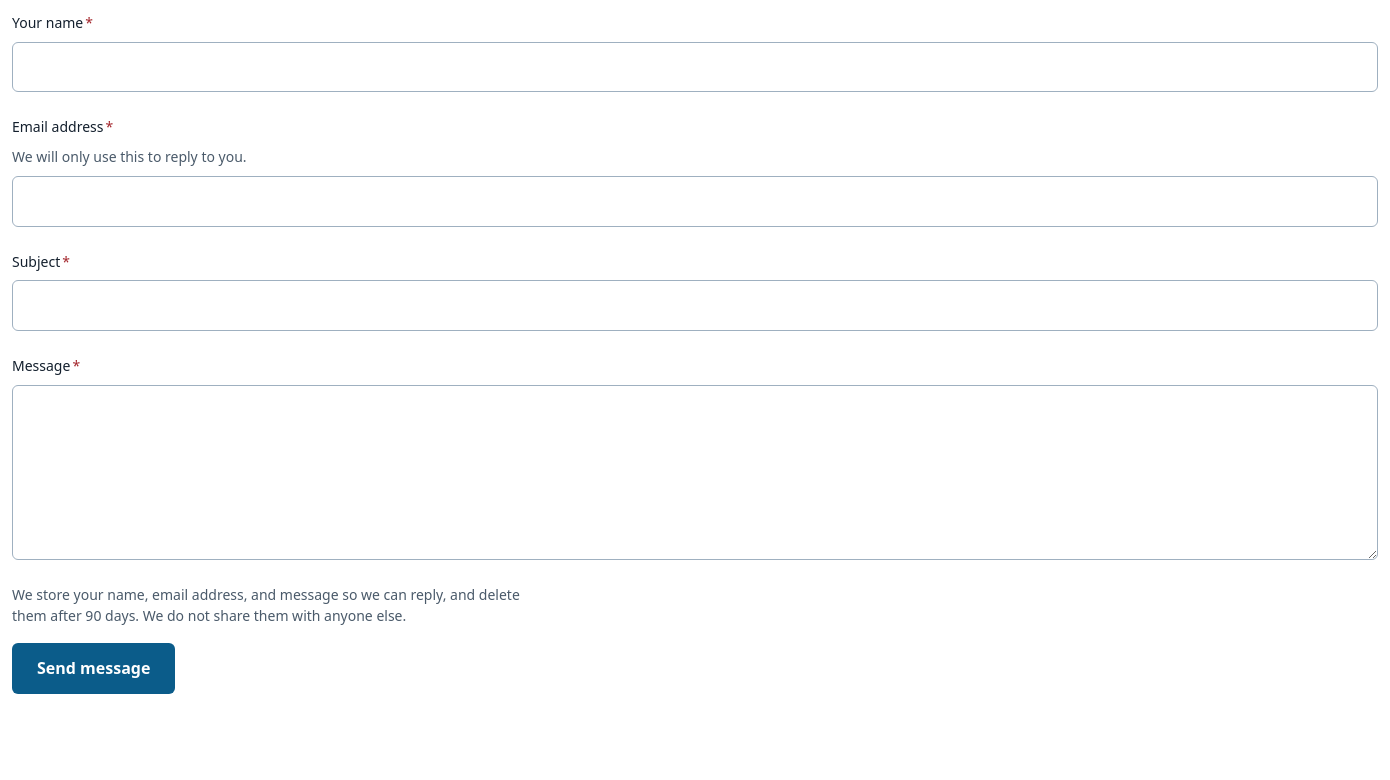
Scenario: success state › confirms explicitly rather than silently clearing
In the field labelled "Your name*": (695,67) x1=12 y1=42 x2=1378 y2=92, type "Amina Farouk"
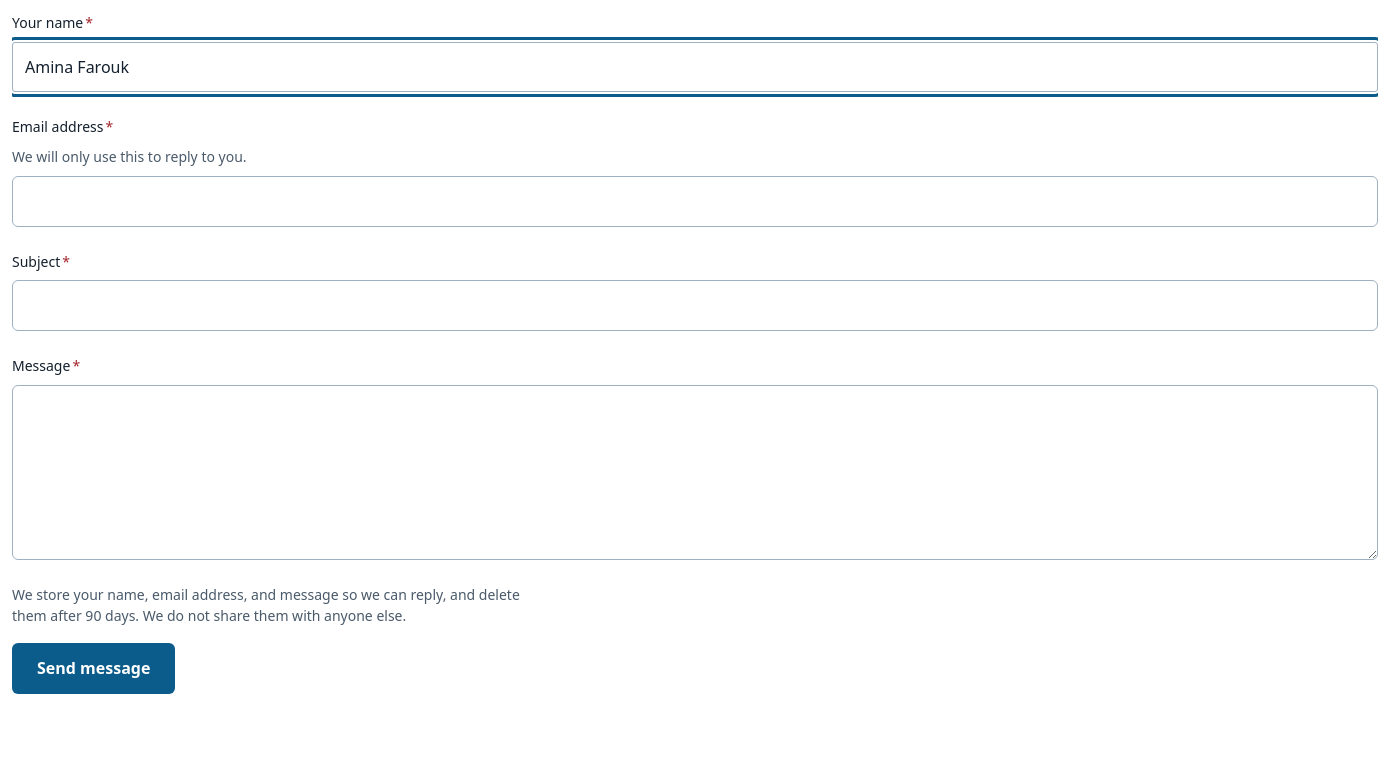
In the field labelled "Email address*": (695,201) x1=12 y1=176 x2=1378 y2=227, type "amina@example.com"
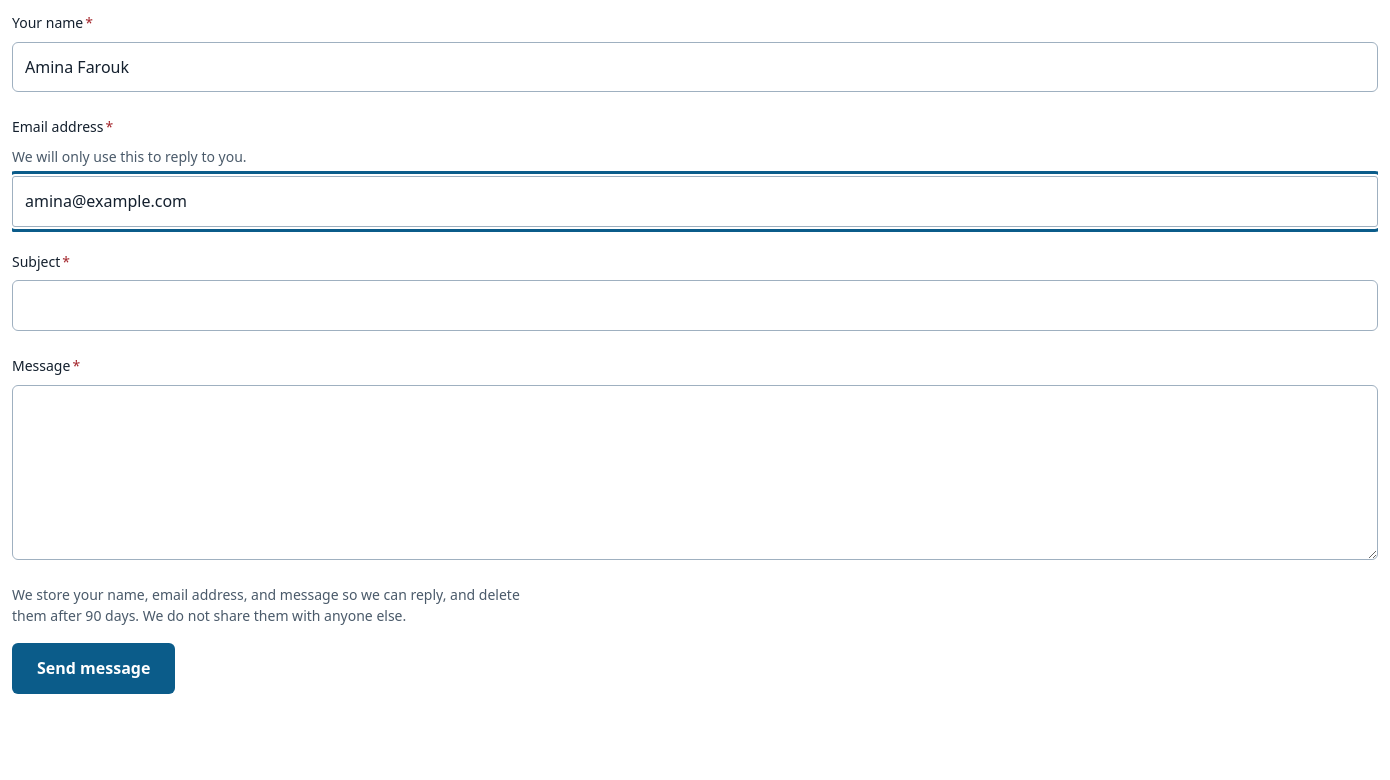
In the field labelled "Subject*": (695,306) x1=12 y1=280 x2=1378 y2=331, type "Approvals"
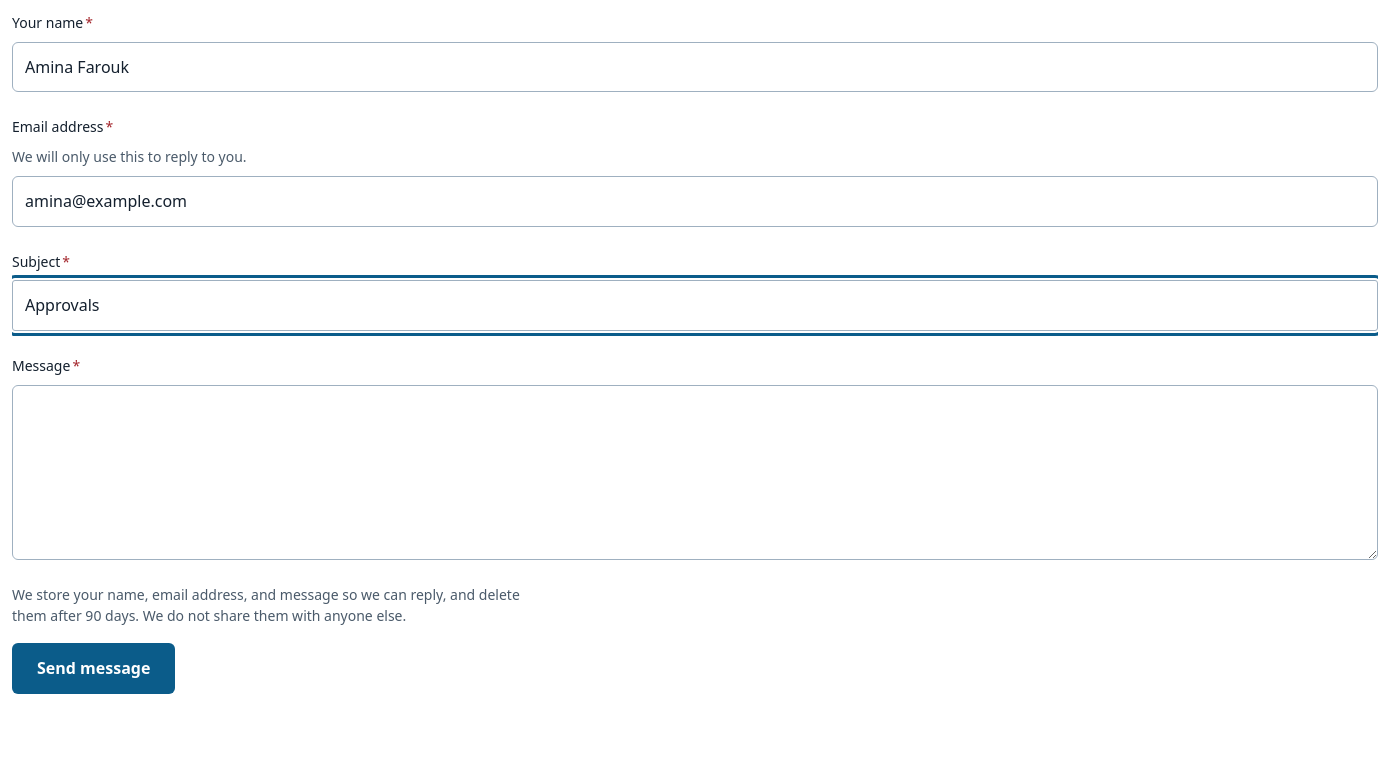
In the text box labelled "Message*": (695,472) x1=12 y1=385 x2=1378 y2=560, type "We have twelve approval steps and no record of who signed what."
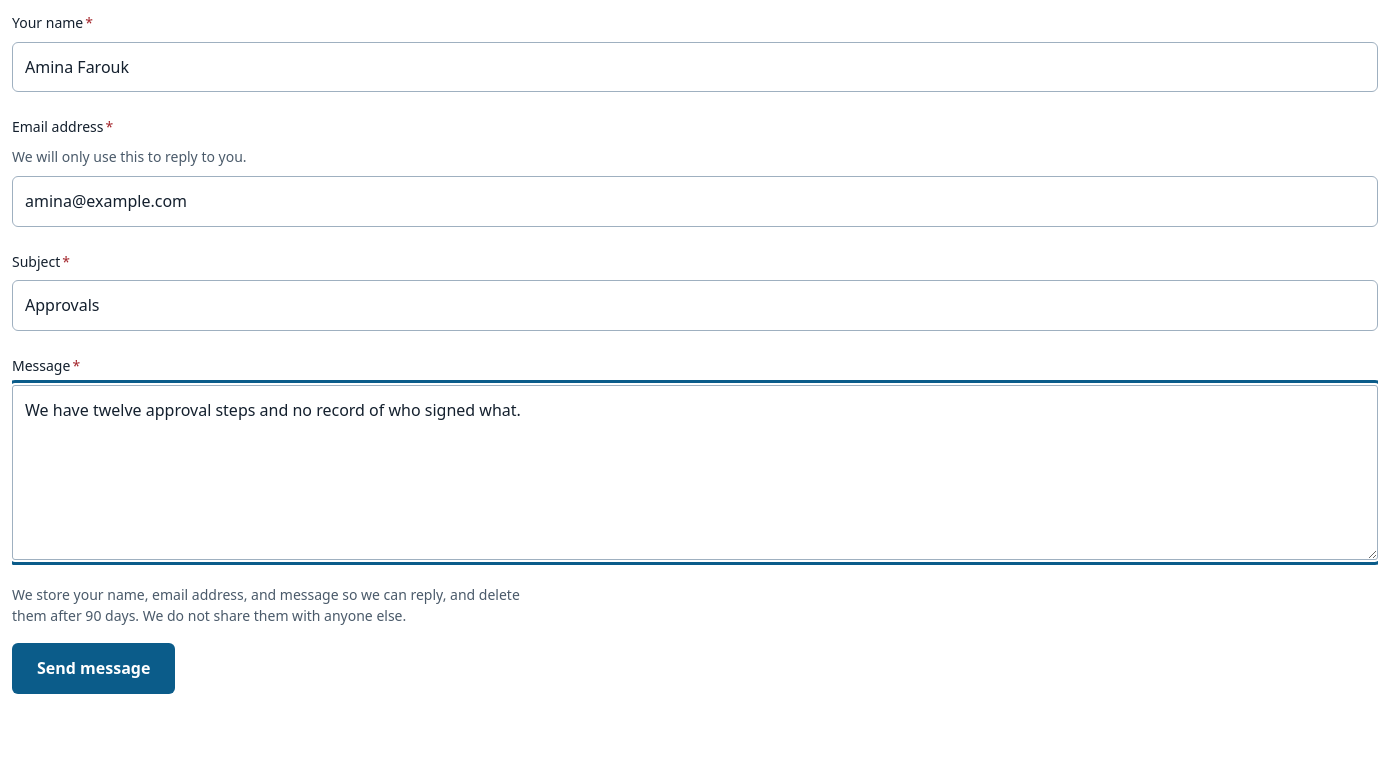
Click the button "Send message": (94,668) x1=12 y1=643 x2=175 y2=694
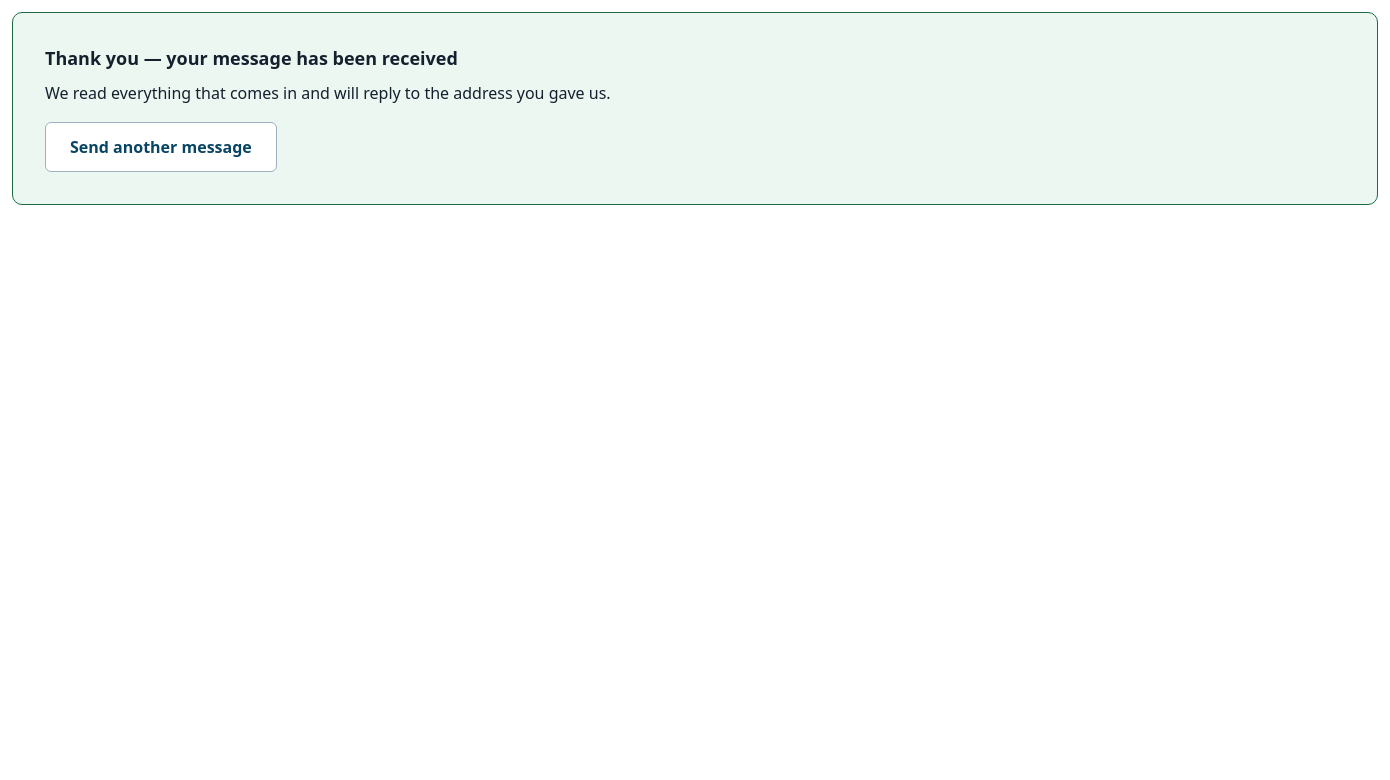
Result: the text "Thank you — your message has been received" is shown at x1=45 y1=46 x2=458 y2=70
